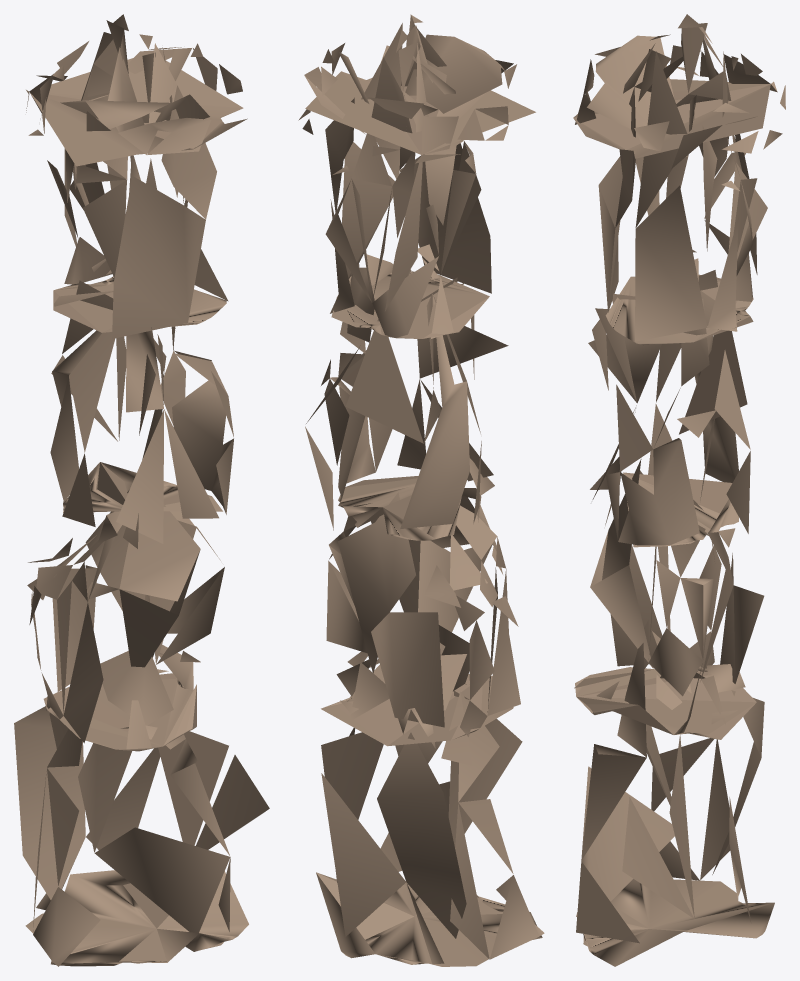
File: rock-needle-lod1.glb
3 views of the same model, side by side, from view 1: azimuth 30°, elevation 25°; view 2: azimuth 150°, elevation 25°; view 3: azimuth 270°, elevation 25° (orthographic).
Parts seen in each view (by area): view 1: rock-needle; view 2: rock-needle; view 3: rock-needle.
Boxes of the visible parts, x1=… form: rock-needle: x1=14, y1=14, x2=269, y2=966; rock-needle: x1=298, y1=14, x2=544, y2=966; rock-needle: x1=573, y1=14, x2=785, y2=966.
Size of the model in its own units: 4.95 by 19.88 by 4.22.
